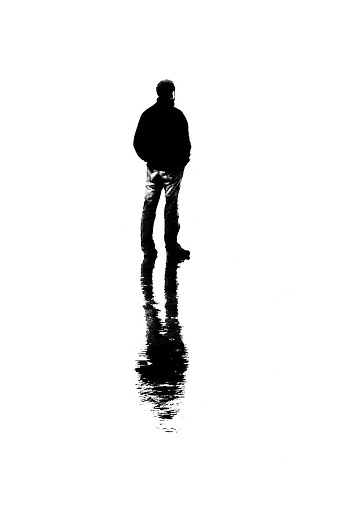em pe: (128, 75, 188, 311)
